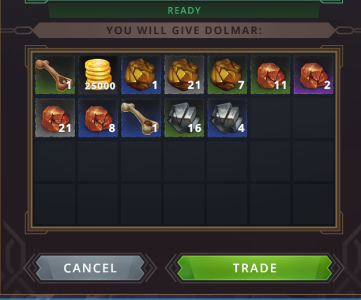aurelium ore: (121, 55, 160, 93), (165, 55, 203, 92), (209, 56, 247, 93)
copper ore: (35, 98, 74, 138), (250, 55, 289, 93), (294, 55, 333, 93), (79, 98, 117, 137)
gold: (79, 55, 117, 93)
silver ore: (207, 98, 246, 138), (164, 98, 202, 137)
